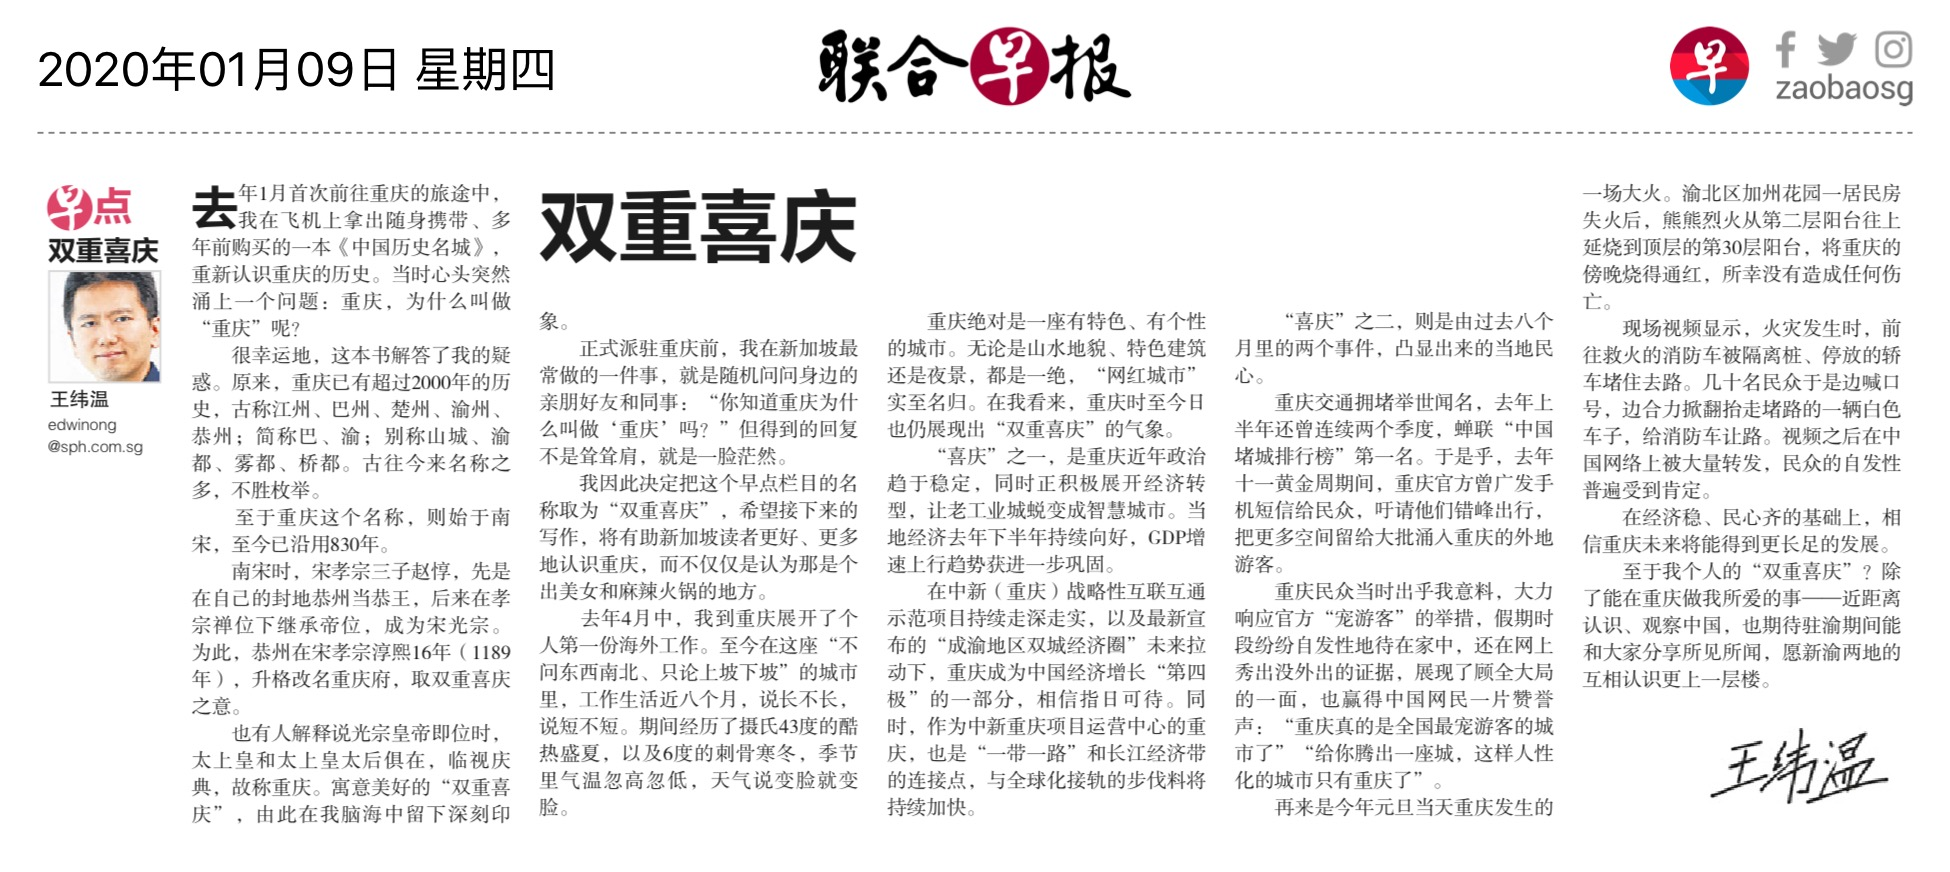heading: (532, 178, 869, 281)
